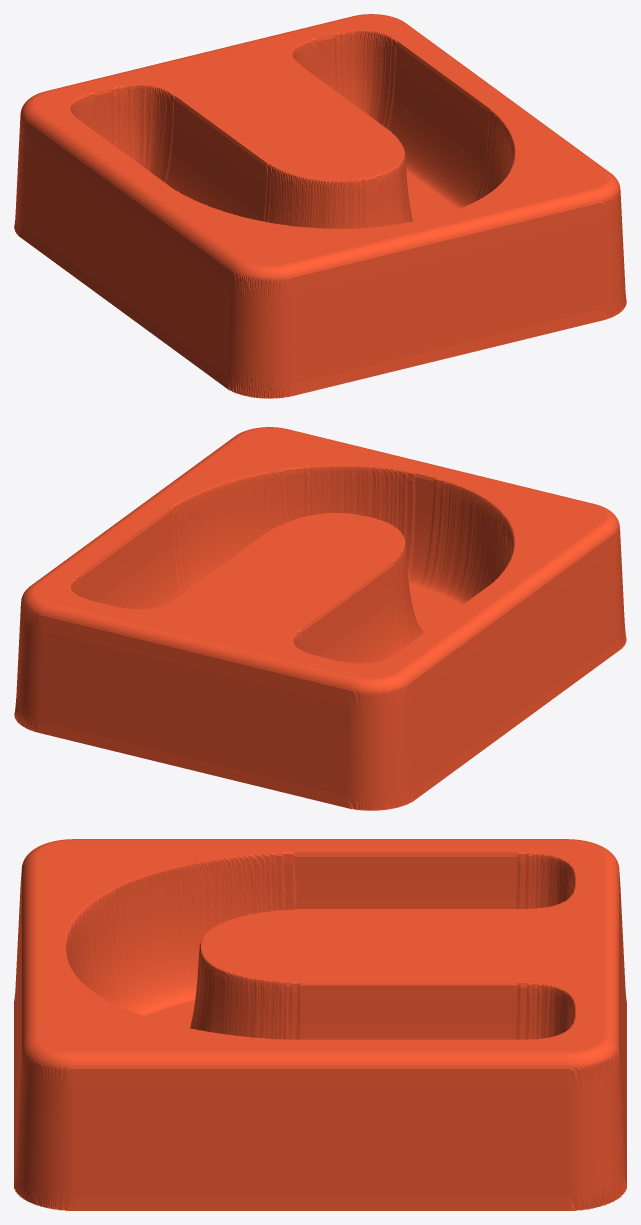
Rendered from mold.glb.
The picture shows the model from 3 angles, top to bottom: view 1: azimuth 30°, elevation 25°; view 2: azimuth 150°, elevation 25°; view 3: azimuth 270°, elevation 25°; orthographic projection. The views are drawn at different scales.
Visible parts, largest first — view 1: geometry_0; view 2: geometry_0; view 3: geometry_0.
Boxes of the visible parts, x1,y1,x2,y2 form: geometry_0: [14, 14, 626, 398]; geometry_0: [14, 427, 626, 810]; geometry_0: [14, 839, 626, 1210].
Bounding box in the file's own units: 0.0824 × 0.0248 × 0.0924.
